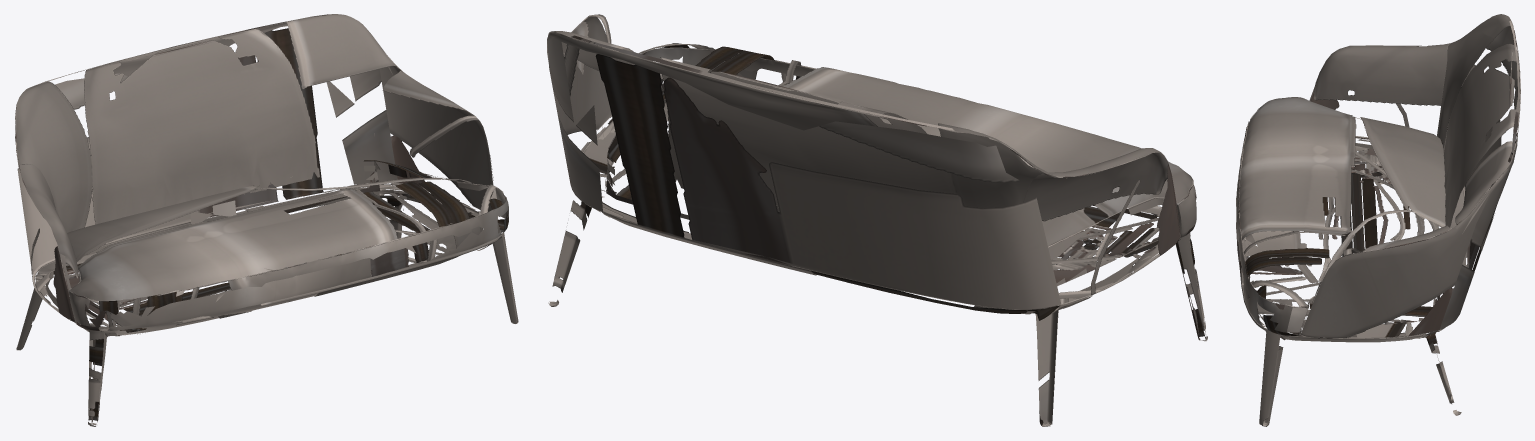
The model's file is raw_model.obj.
The picture shows the model from 3 angles, left to right: view 1: azimuth 30°, elevation 25°; view 2: azimuth 150°, elevation 25°; view 3: azimuth 270°, elevation 25°; orthographic projection. The views are drawn at different scales.
Visible parts, largest first — view 1: solid_002, solid_001; view 2: solid_002, solid_001; view 3: solid_002, solid_001.
Boxes of the visible parts, left/top/right/bottom form: solid_002: left=15, top=14, right=508, bottom=331; solid_001: left=16, top=186, right=518, bottom=426; solid_002: left=547, top=14, right=1196, bottom=310; solid_001: left=548, top=99, right=1207, bottom=426; solid_002: left=1236, top=14, right=1520, bottom=338; solid_001: left=1240, top=139, right=1465, bottom=426.
Size of the model in its own units: 1.43 by 0.7425 by 0.8195.
